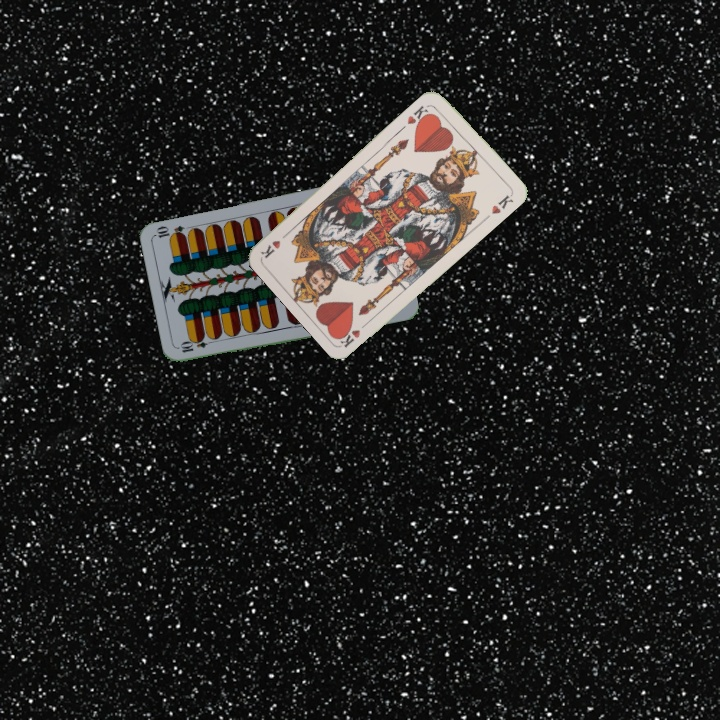E10: (177, 335, 217, 355)
HK: (335, 317, 373, 350), (403, 101, 433, 129)
